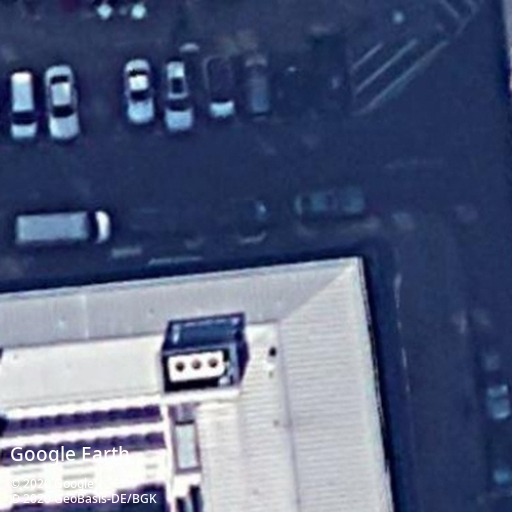Chiller: (166, 348, 226, 385)
